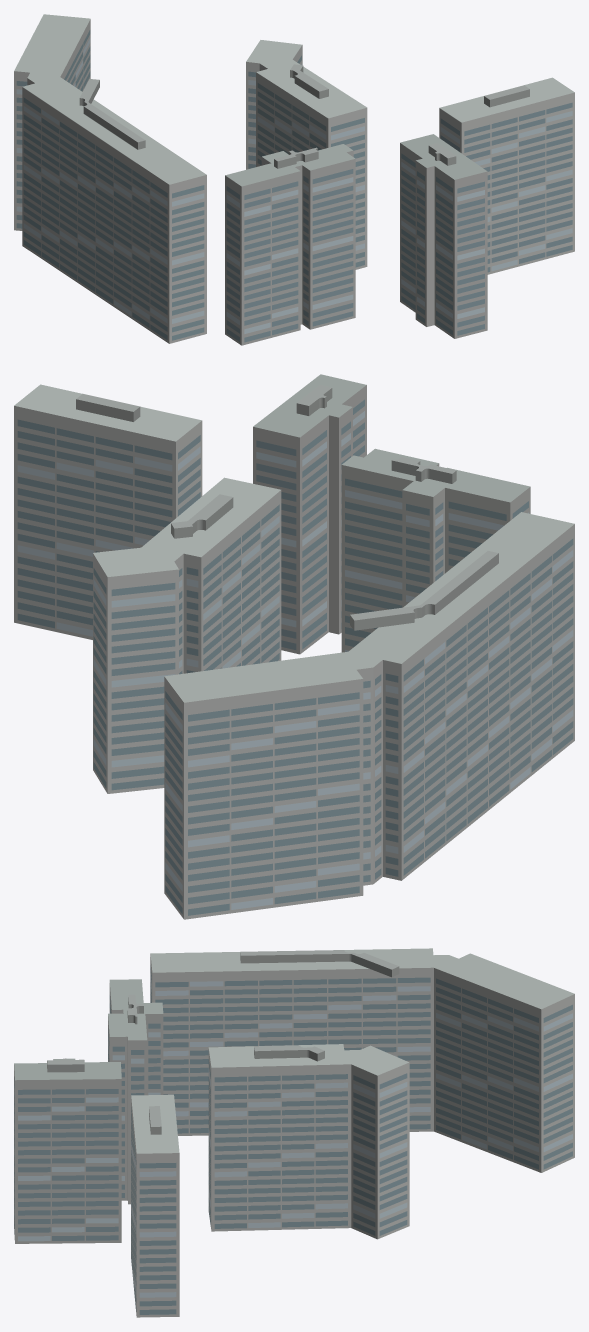
File: apt-a13384403.glb
3 renders of one model, top to bottom at view 1: azimuth 30°, elevation 25°; view 2: azimuth 150°, elevation 25°; view 3: azimuth 270°, elevation 25°, orthographic. The views are drawn at different scales.
Visible parts, largest first — view 1: apt-a13384403; view 2: apt-a13384403; view 3: apt-a13384403.
Boxes of the visible parts, left/top/right/bottom form: apt-a13384403: left=14, top=14, right=574, bottom=345; apt-a13384403: left=14, top=374, right=574, bottom=919; apt-a13384403: left=14, top=948, right=574, bottom=1317.
Size of the model in its own units: 131 by 51 by 151.
